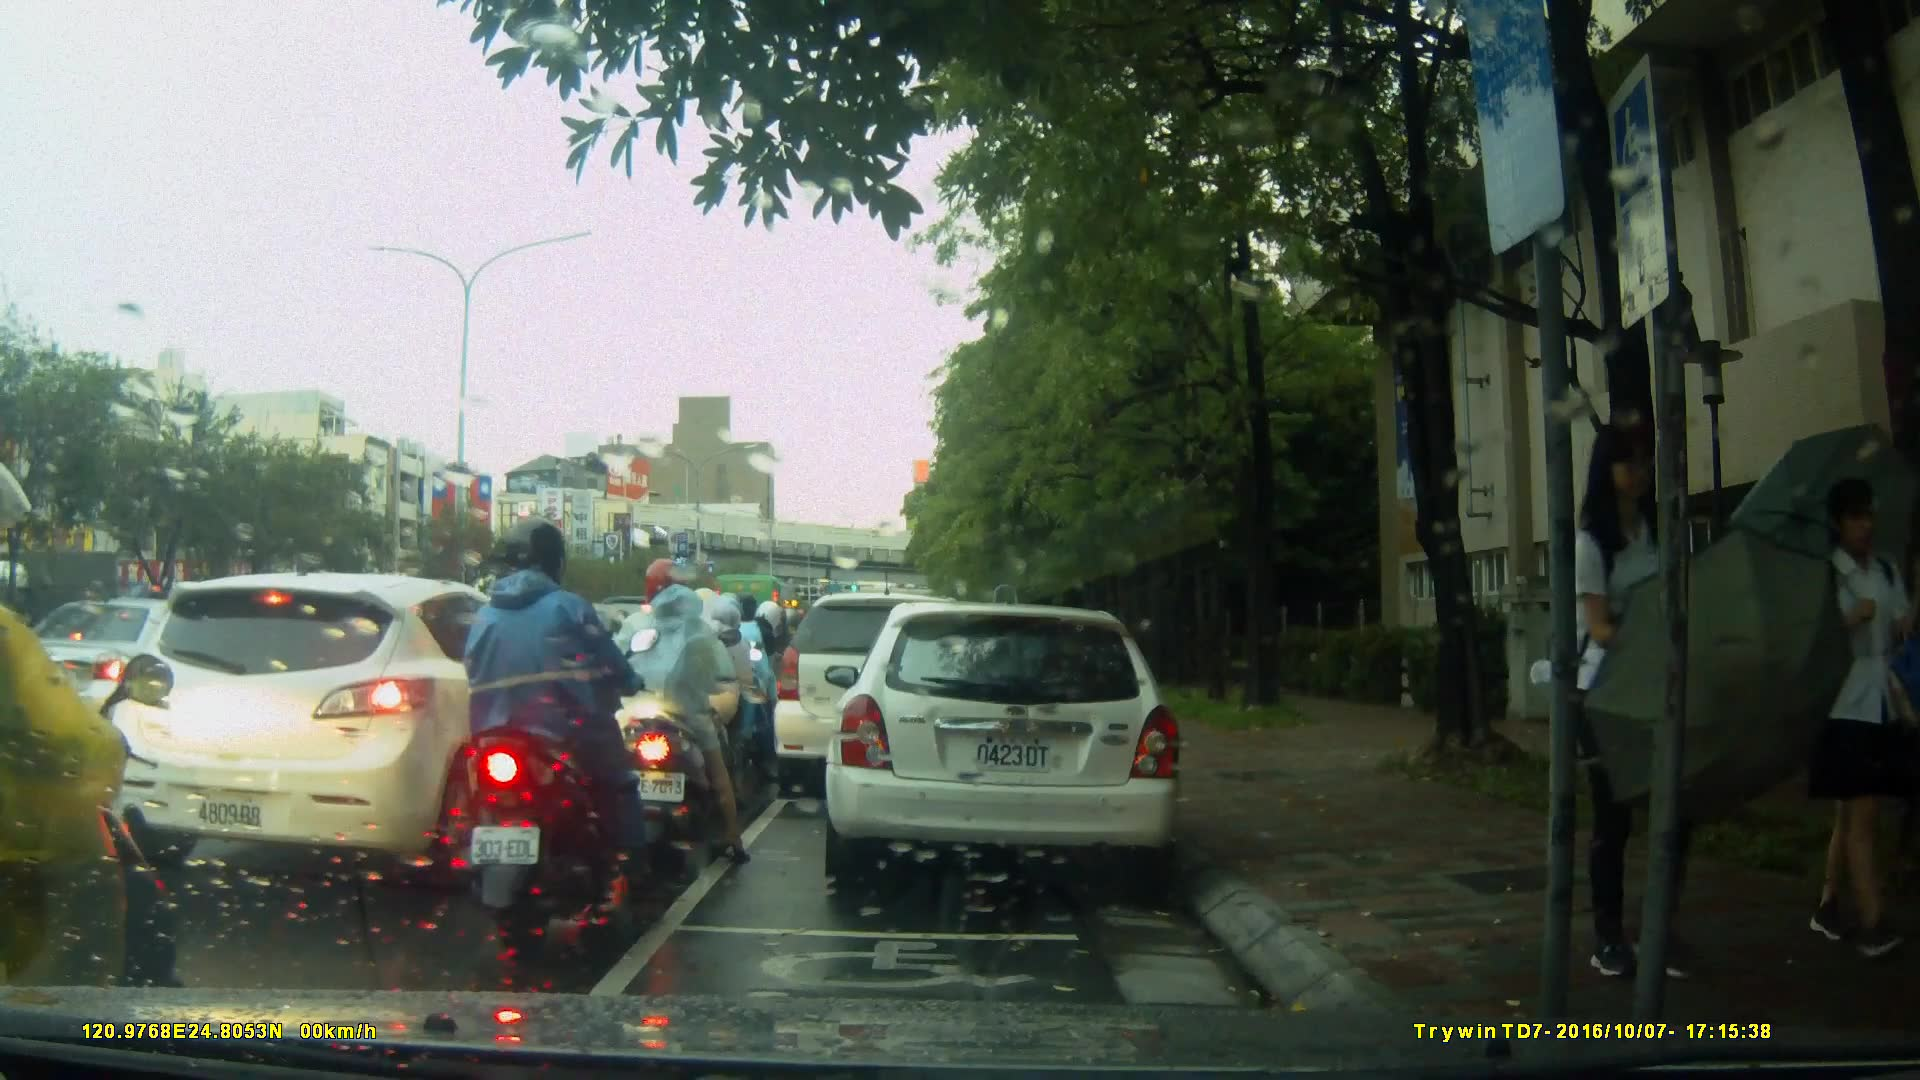pedestrian: (1565, 432, 1728, 987), (1771, 471, 1915, 975)
rider: (1, 455, 192, 1080), (445, 516, 655, 947), (594, 560, 744, 868), (642, 581, 764, 823), (716, 594, 788, 767)
vehicle: (107, 570, 588, 885), (822, 604, 1188, 883), (774, 595, 995, 802), (9, 599, 237, 730)
